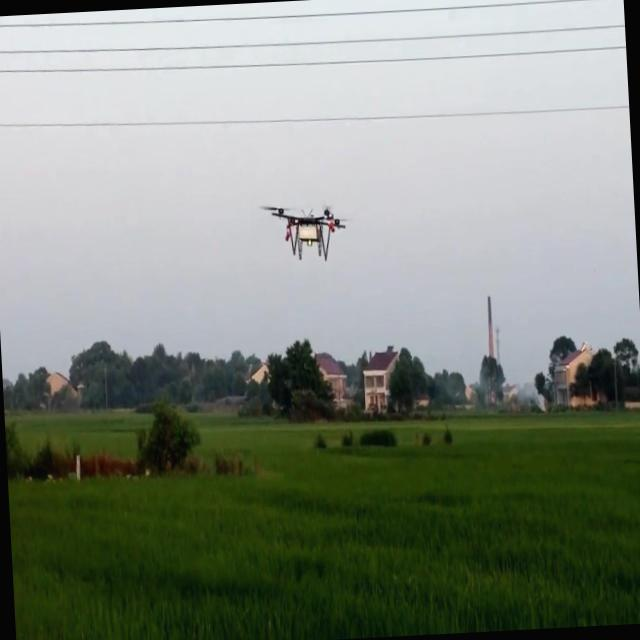drone: (260, 198, 352, 268)
